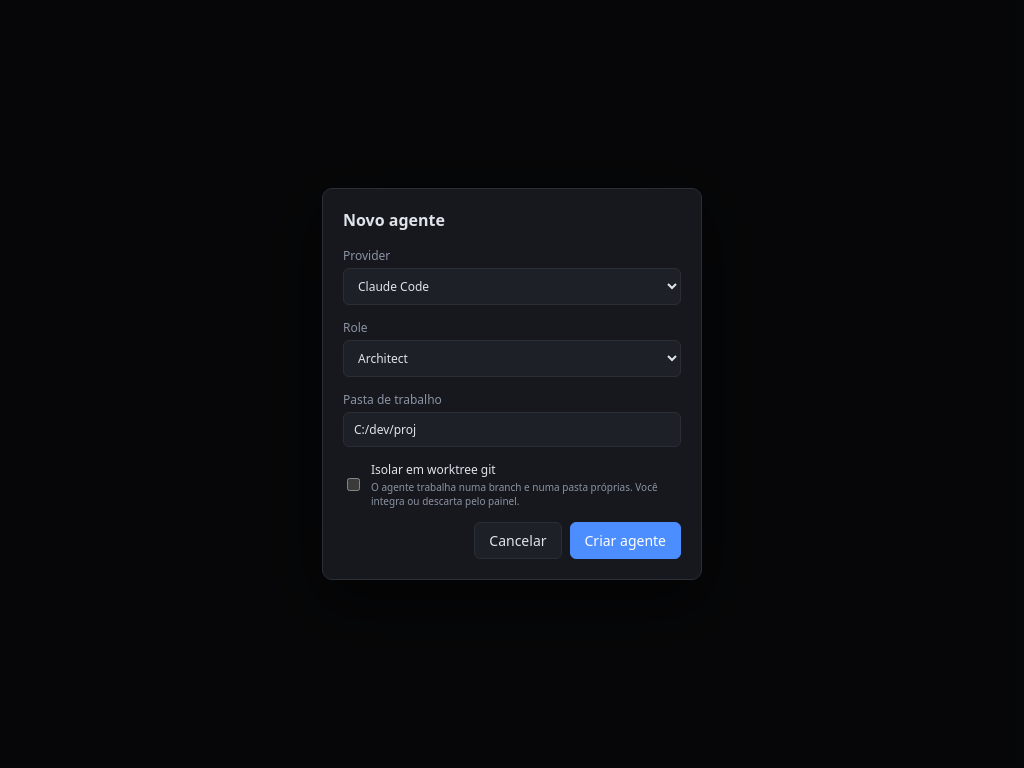
Test: AgentDialog › não cria o nó quando o git recusa o worktree
Click the checkbox.
click(354, 484)  # box [347,464,360,505]
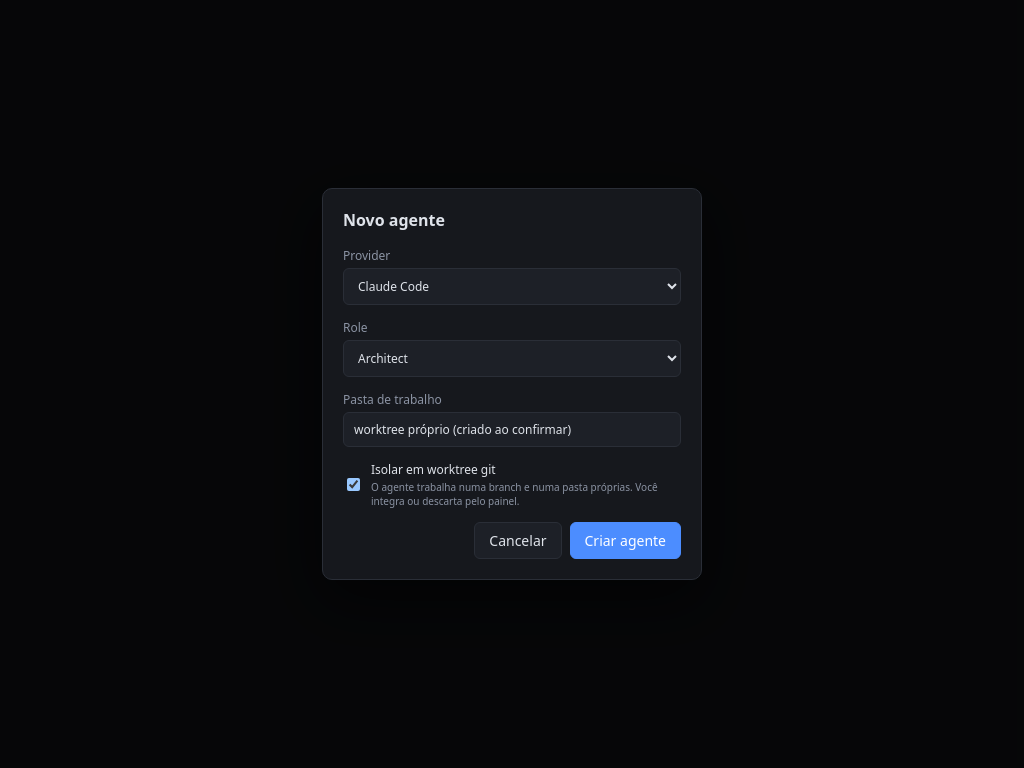
Click the button "Criar agente".
click(625, 540)  # box [570,522,681,559]
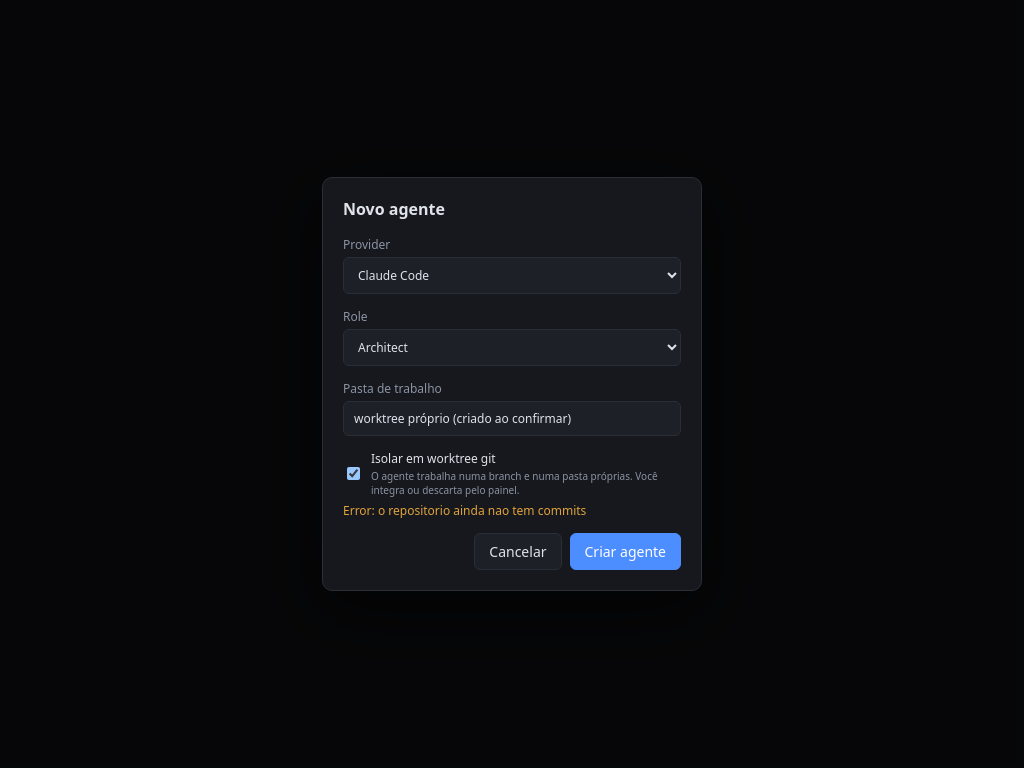
Expected: the message shows "nao tem commits", [343,502,586,519]
